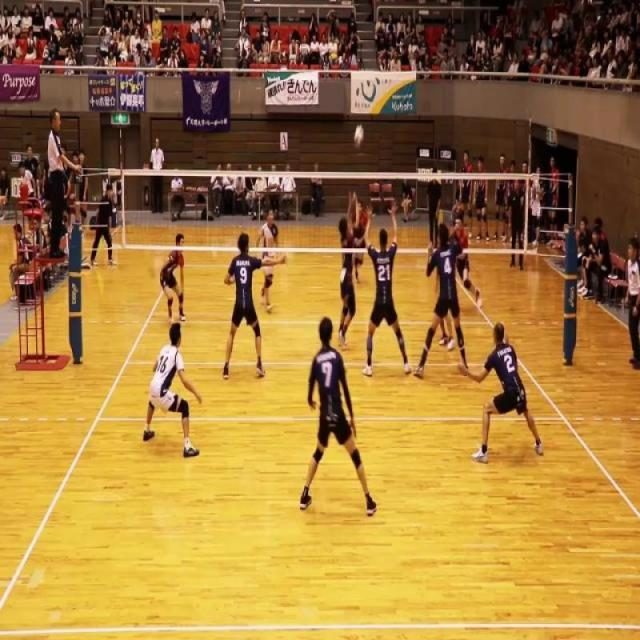volleyball: (354, 122, 364, 150)
